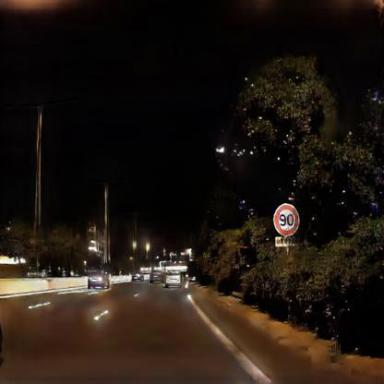Speed_limit_90: (274, 205, 298, 235)
